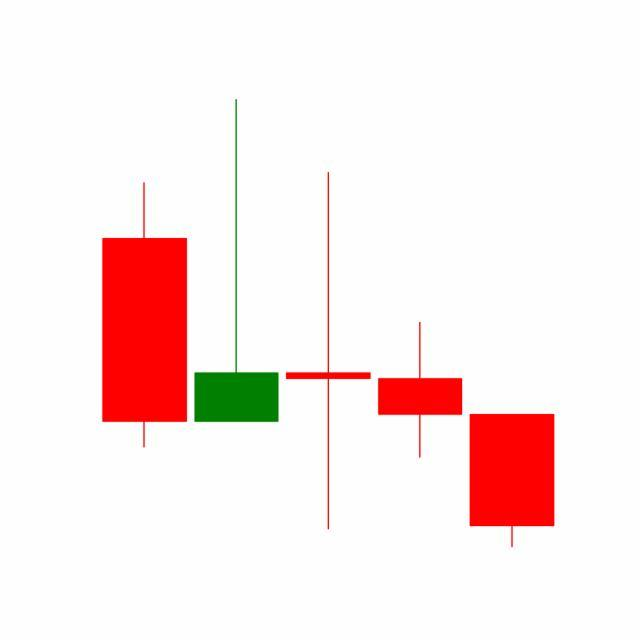Spinning Top: (374, 321, 468, 461)
